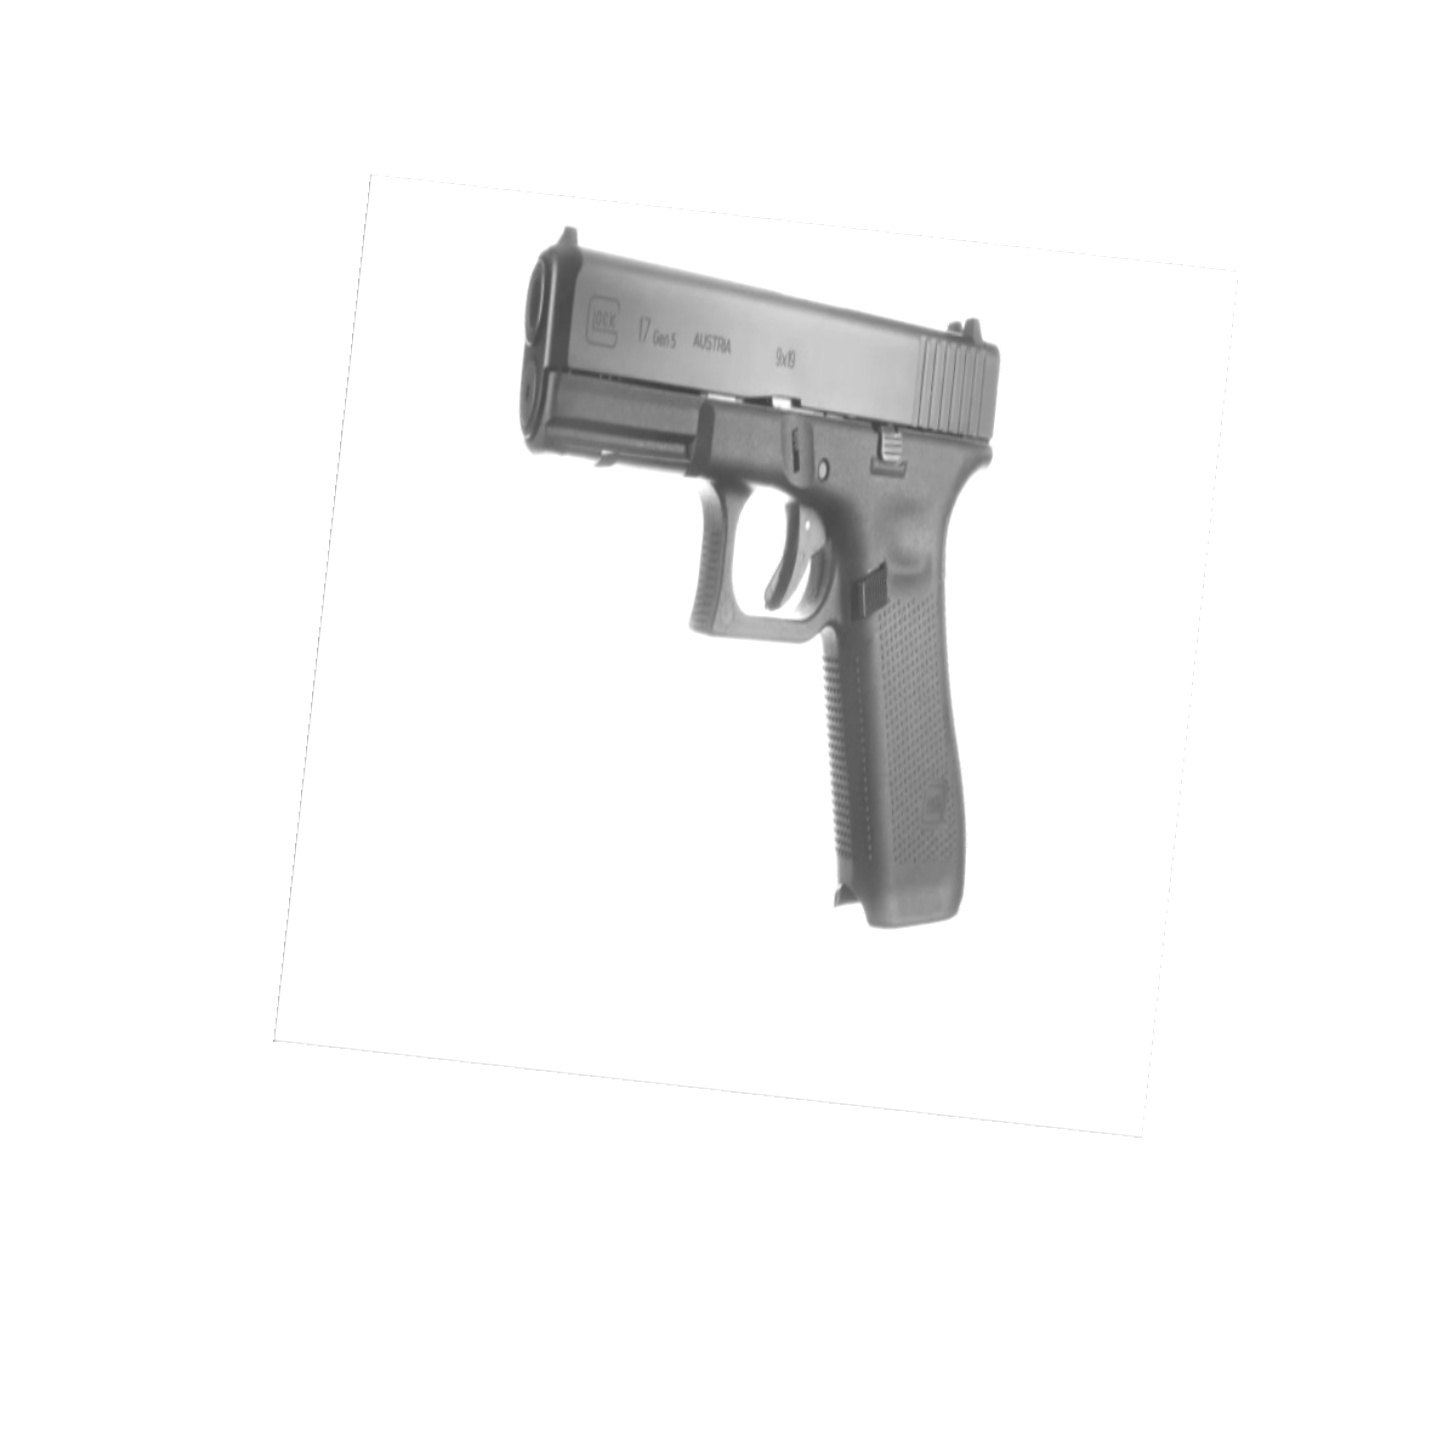gun: (519, 223, 999, 930)
